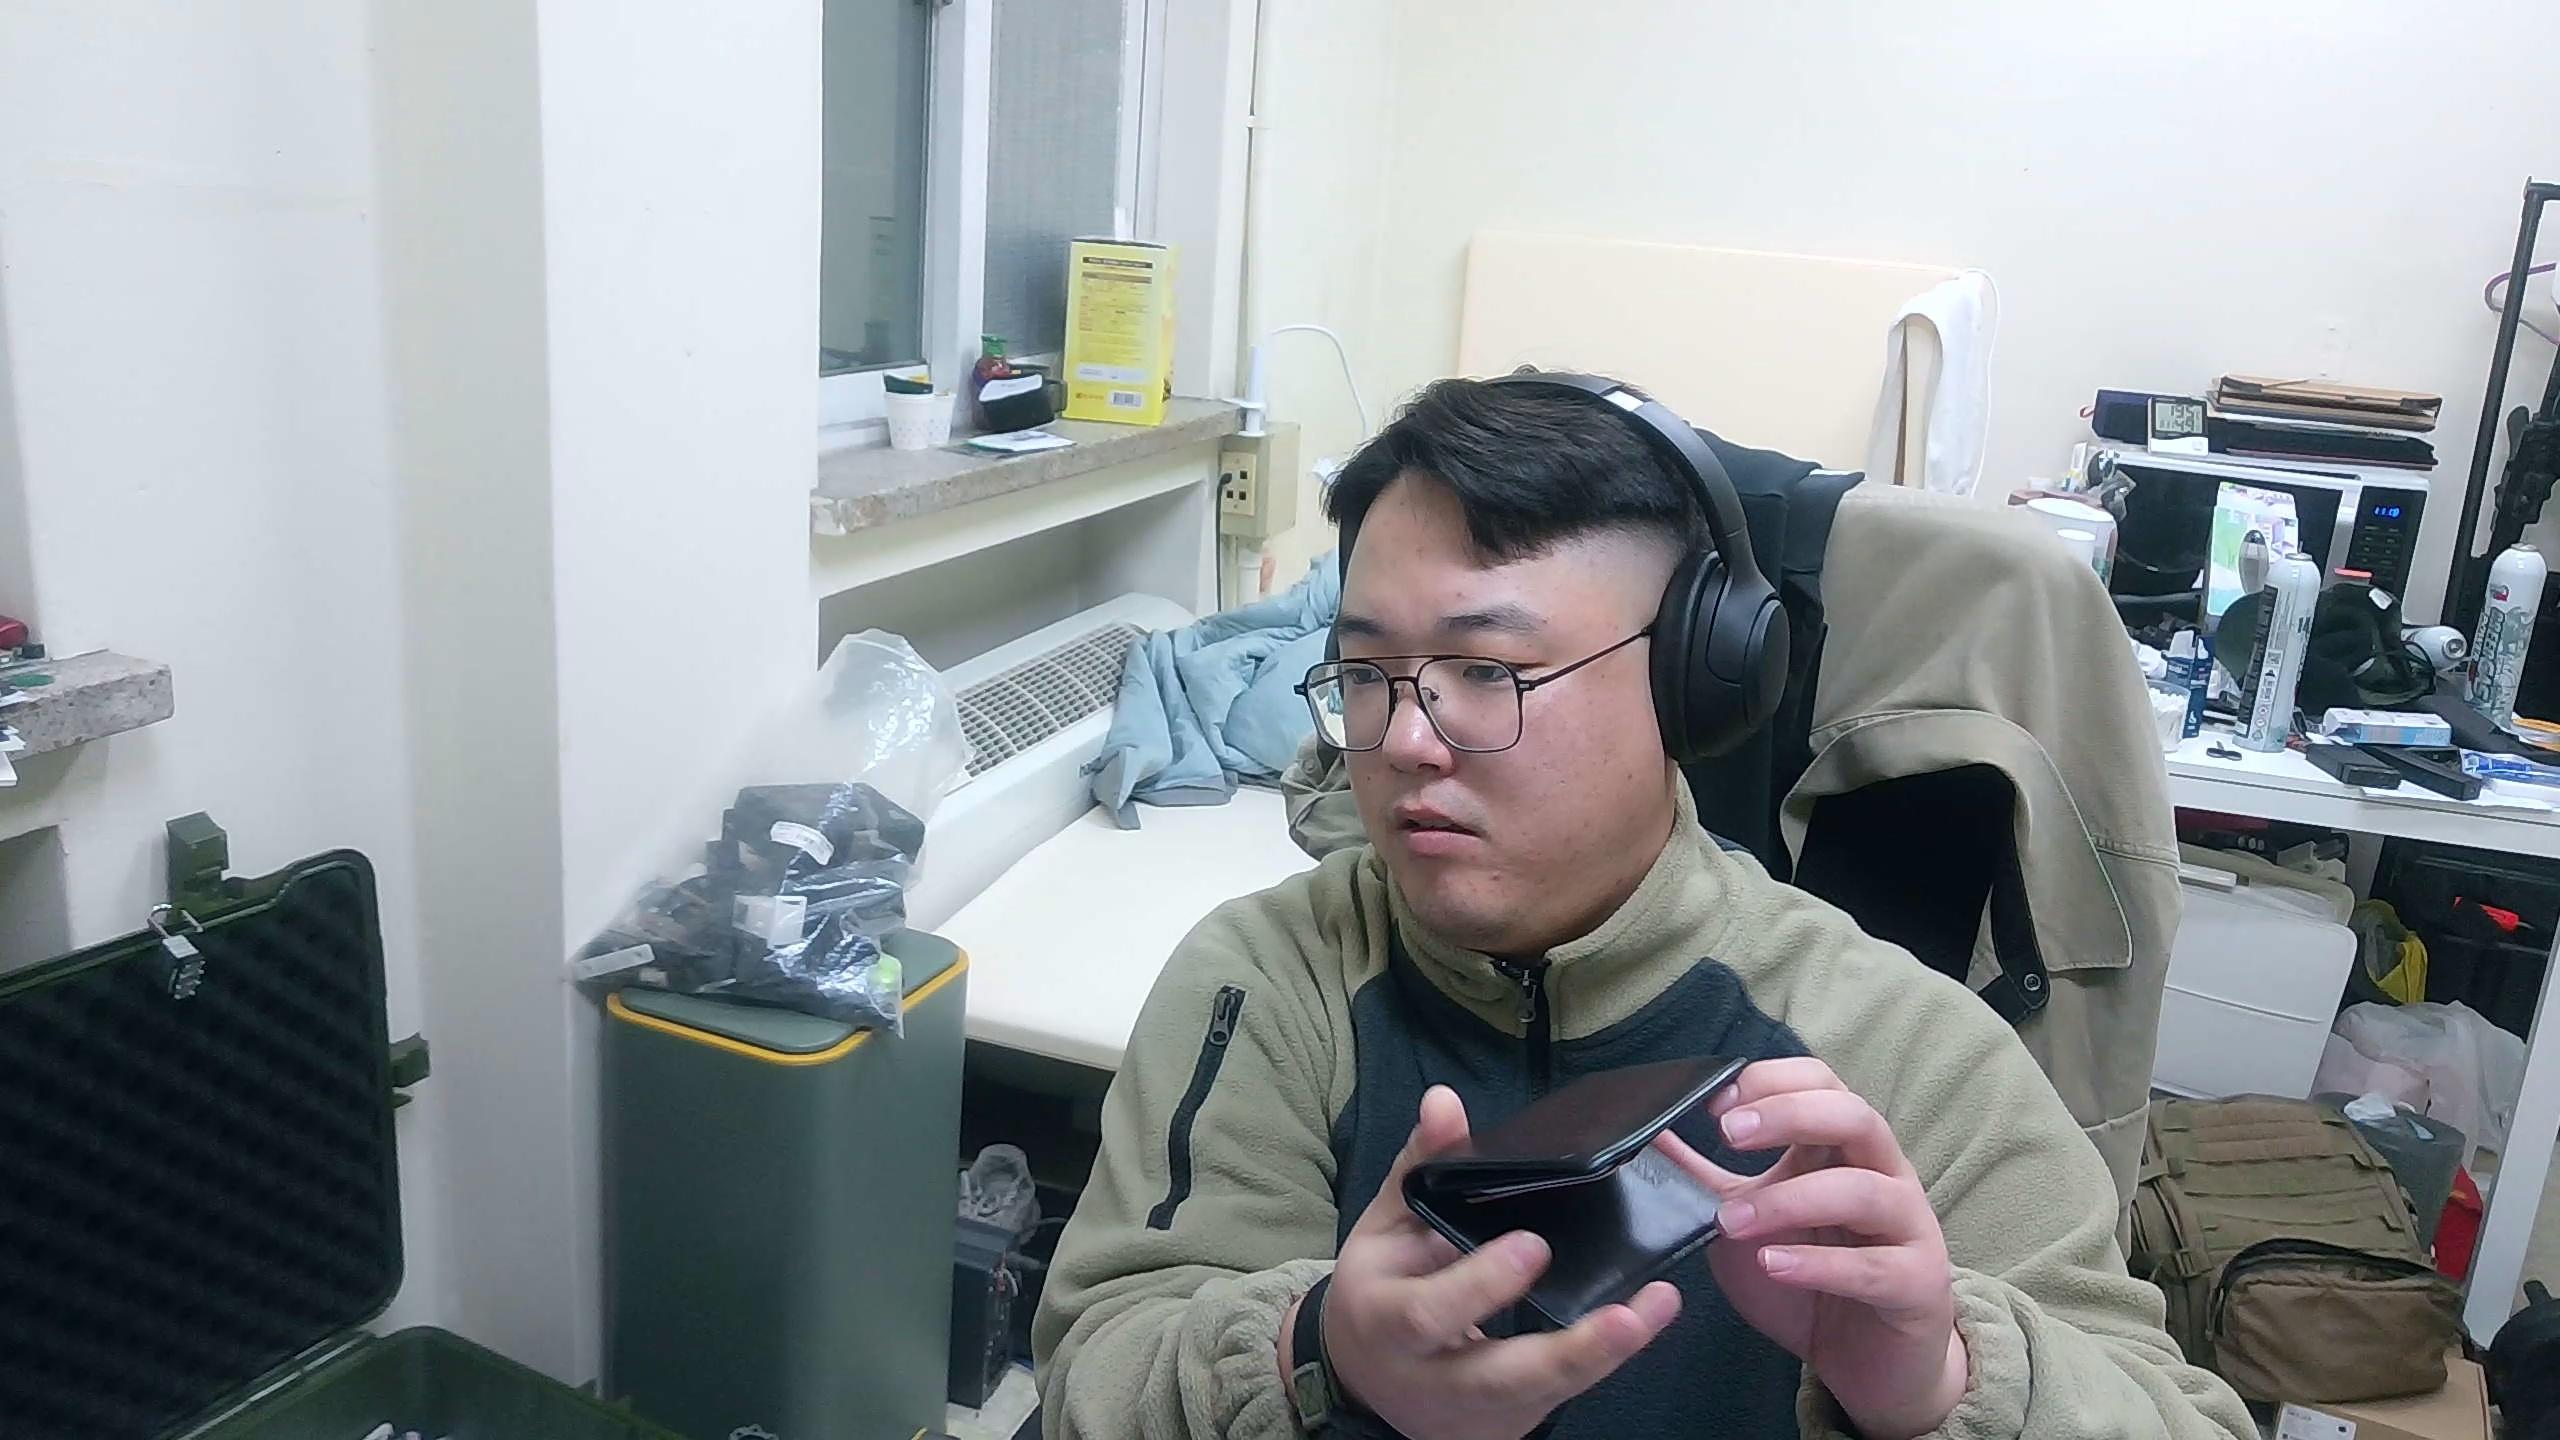earphone: (1400, 1050, 1790, 1342)
